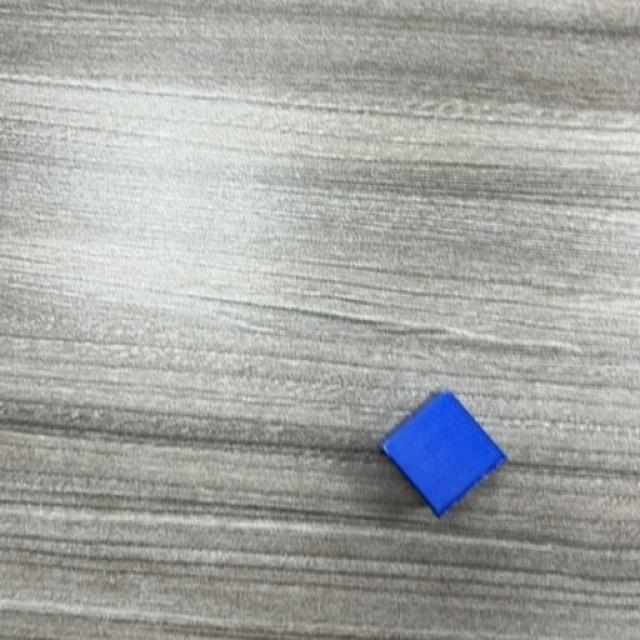Azul: (379, 392, 510, 520)
